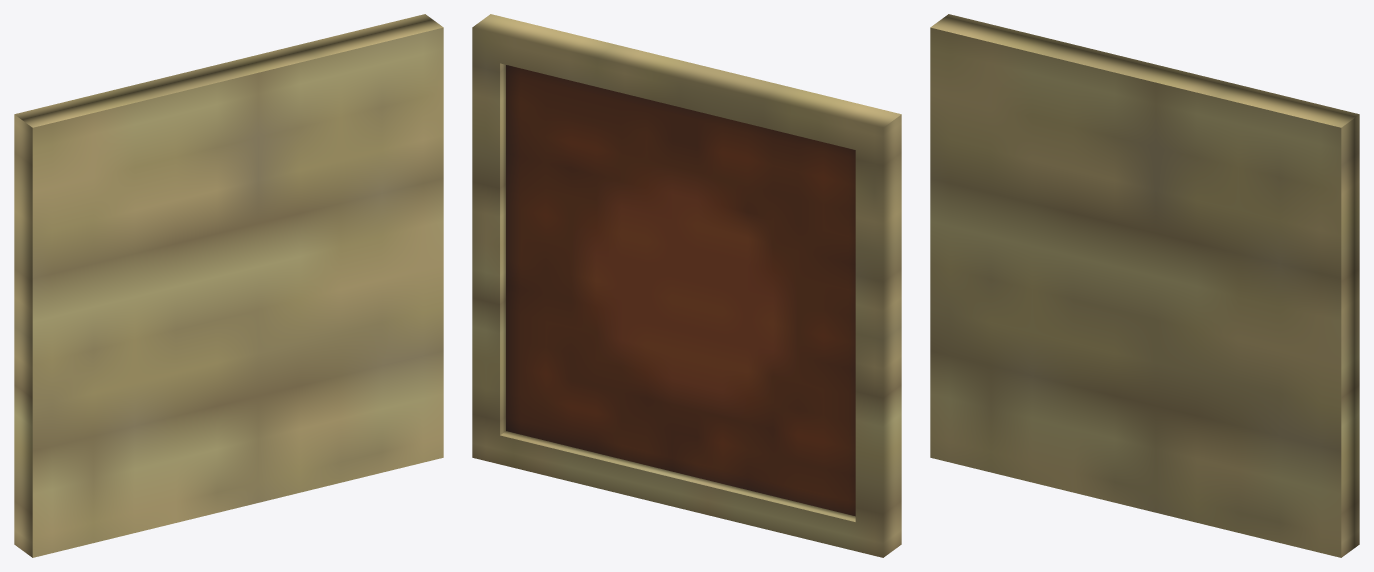
Rendered from frame1.obj.
3 views of the same model, side by side, from view 1: azimuth 30°, elevation 25°; view 2: azimuth 150°, elevation 25°; view 3: azimuth 330°, elevation 25° (orthographic).
Parts seen in each view (by area): view 1: Item_Frame_Wood_Framed_Item_Frame_Mat_0; view 2: Item_Frame_Wood_Framed_Item_Frame_Mat_0; view 3: Item_Frame_Wood_Framed_Item_Frame_Mat_0.
Part boxes in pixels (x1=…): Item_Frame_Wood_Framed_Item_Frame_Mat_0: x1=14, y1=14, x2=443, y2=557; Item_Frame_Wood_Framed_Item_Frame_Mat_0: x1=472, y1=14, x2=901, y2=557; Item_Frame_Wood_Framed_Item_Frame_Mat_0: x1=930, y1=14, x2=1359, y2=557.
Size of the model in its own units: 0.7688 by 0.7688 by 0.0599.
1 material, 1 textured.
